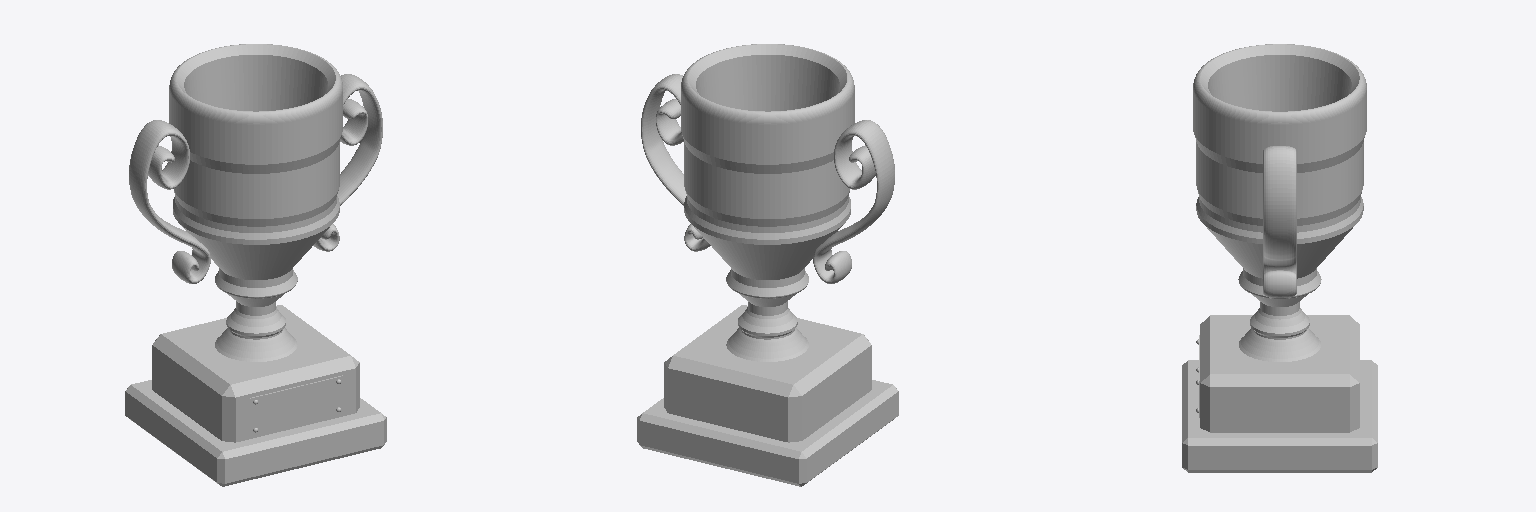
The model's file is cup.obj.
3 views of the same model, side by side, from view 1: azimuth 30°, elevation 25°; view 2: azimuth 150°, elevation 25°; view 3: azimuth 270°, elevation 25° (orthographic).
Parts seen in each view (by area): view 1: Nullo Cilindro, Nullo Cubo1, Nullo Cubo_1, Nullo HyperNURBS_1 Cubo2, Nullo HyperNURBS Cubo, Nullo Cubo_2; view 2: Nullo Cilindro, Nullo Cubo1, Nullo Cubo_1, Nullo HyperNURBS_1 Cubo2, Nullo HyperNURBS Cubo; view 3: Nullo Cilindro, Nullo Cubo1, Nullo Cubo_1, Nullo HyperNURBS Cubo.
Boxes of the visible parts, x1,y1,x2,y2 form: Nullo Cilindro: [169, 44, 342, 361]; Nullo Cubo1: [152, 305, 359, 442]; Nullo Cubo_1: [125, 380, 386, 486]; Nullo HyperNURBS_1 Cubo2: [129, 120, 210, 283]; Nullo HyperNURBS Cubo: [313, 74, 382, 251]; Nullo Cubo_2: [250, 375, 342, 435]; Nullo Cilindro: [681, 44, 854, 361]; Nullo Cubo1: [664, 305, 871, 442]; Nullo Cubo_1: [637, 380, 898, 486]; Nullo HyperNURBS_1 Cubo2: [813, 120, 894, 283]; Nullo HyperNURBS Cubo: [641, 74, 710, 251]; Nullo Cilindro: [1193, 44, 1366, 361]; Nullo Cubo1: [1200, 315, 1359, 432]; Nullo Cubo_1: [1182, 360, 1377, 472]; Nullo HyperNURBS Cubo: [1263, 146, 1296, 297].
Size of the model in its own units: 524 by 733 by 365.